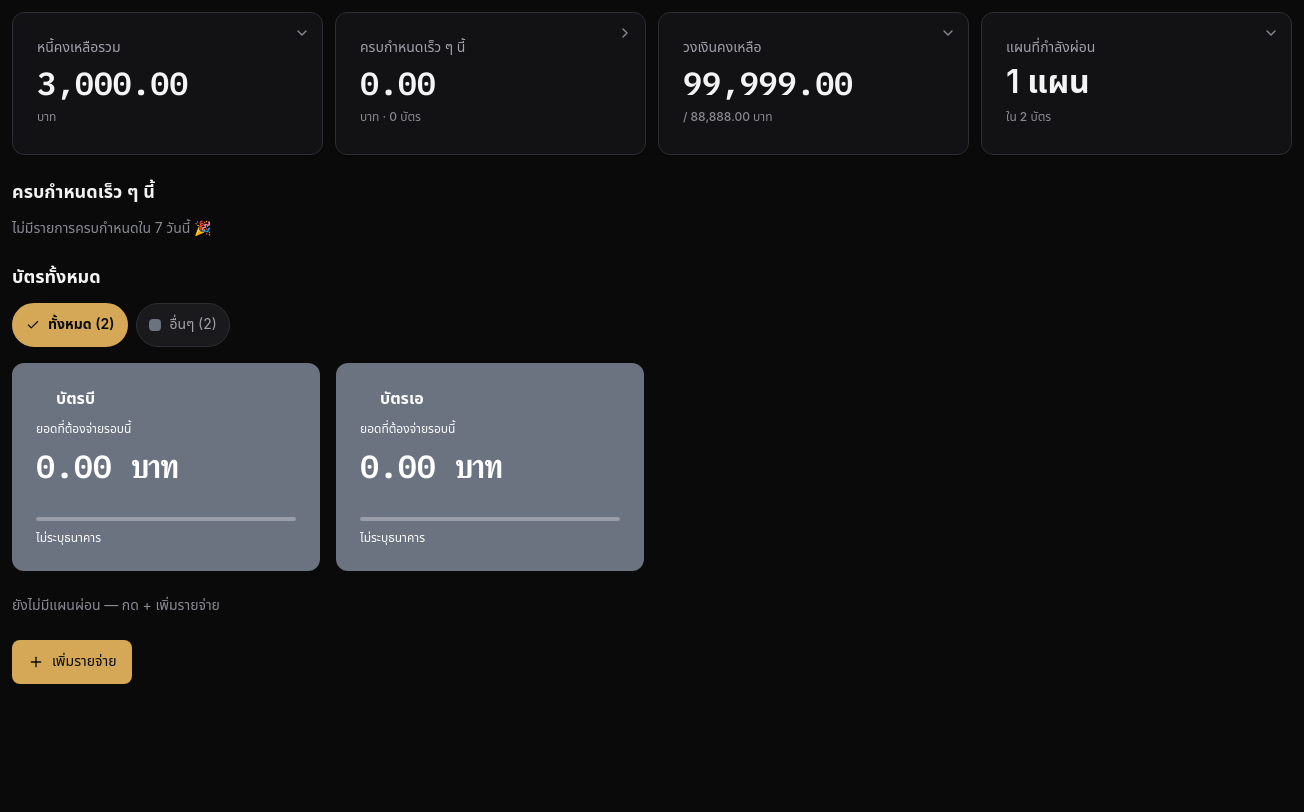
Test: CreditCardDashboard KPI drill-down › credit and plans panels (phase 2) › plans panel shows the empty state without ongoing plans
Click the button "แผนที่กำลังผ่อน 1 แผน ใน 2 บัตร": (1051,48) [981, 12, 1292, 155]
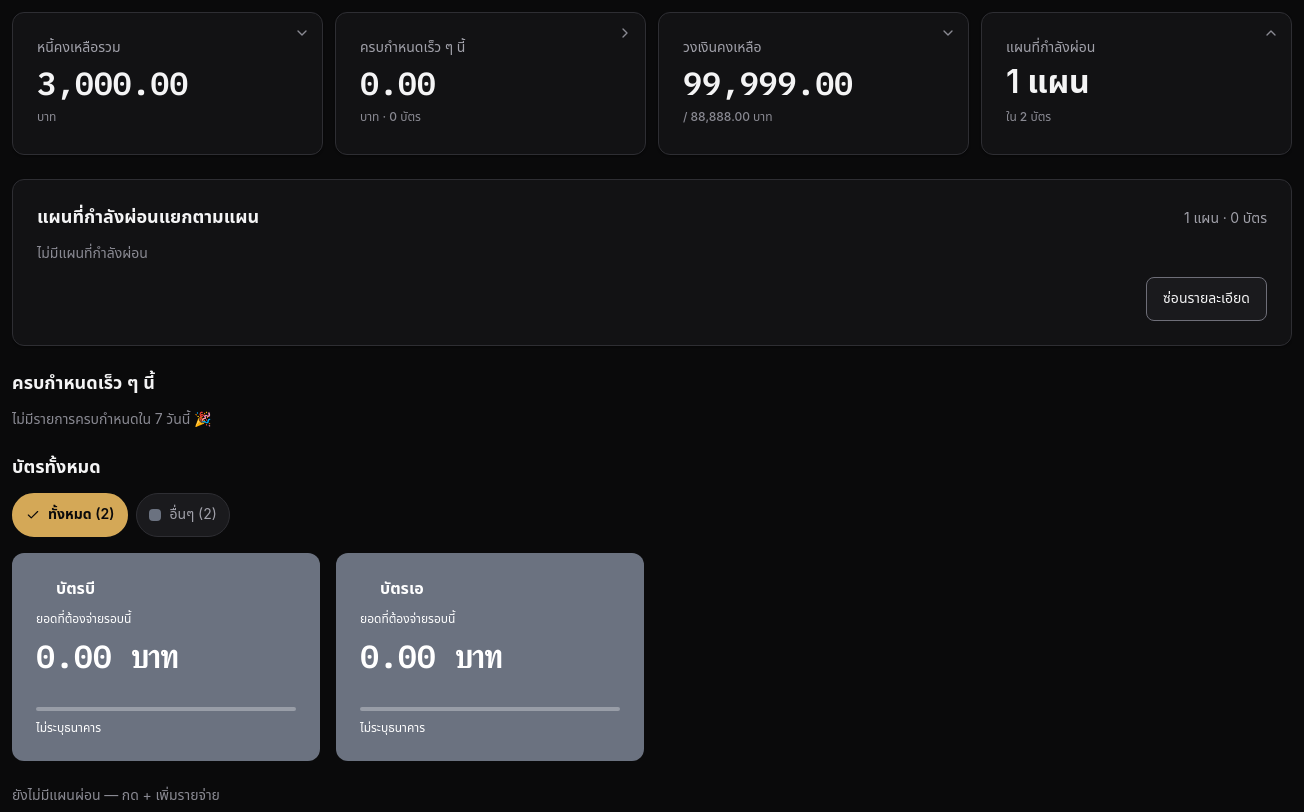
Expected: the text "ไม่มีแผนที่กำลังผ่อน" is shown, [37, 243, 148, 264]
